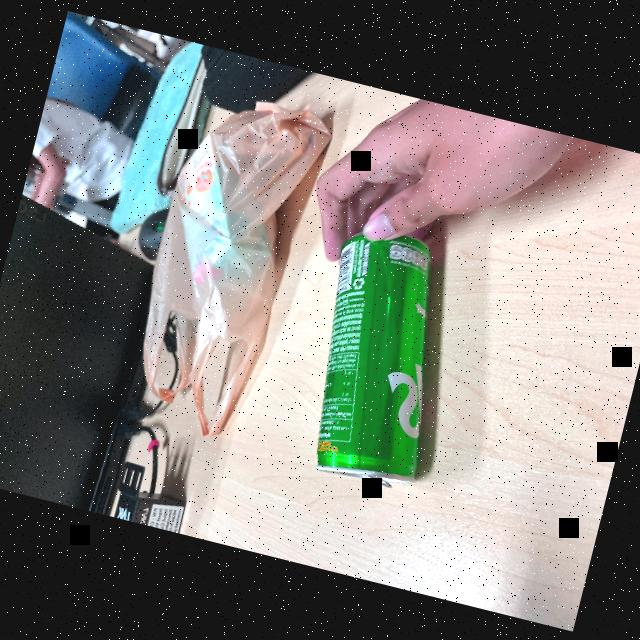can: (279, 195, 484, 498)
